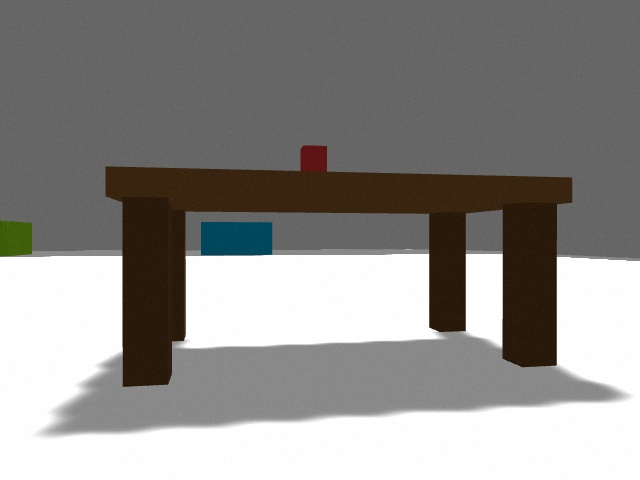blue_drop_zone: (201, 222, 272, 255)
green_drop_zone: (0, 221, 32, 257)
